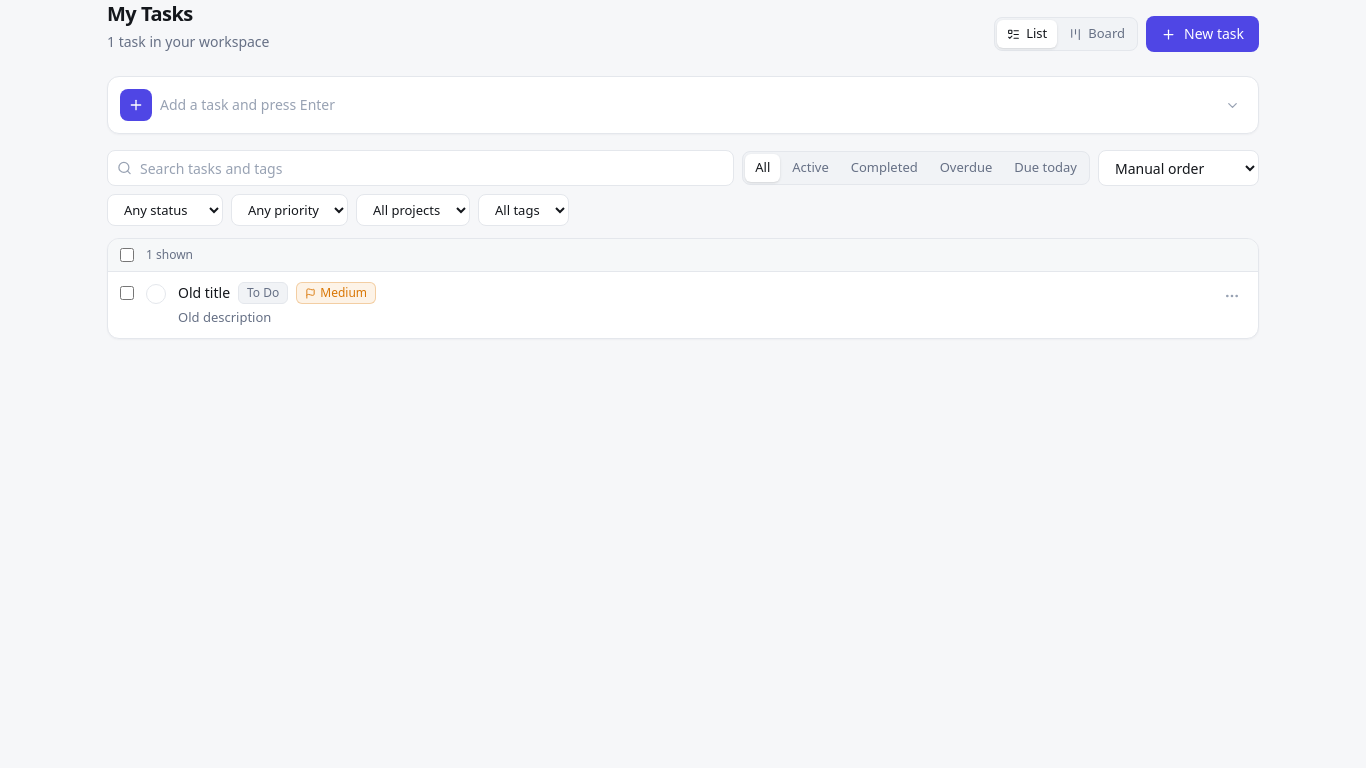
it: completing tasks (G2) › edits a task through the editor modal
Click the button "Old title" at (204, 293), box x1=178 y1=283 x2=230 y2=303
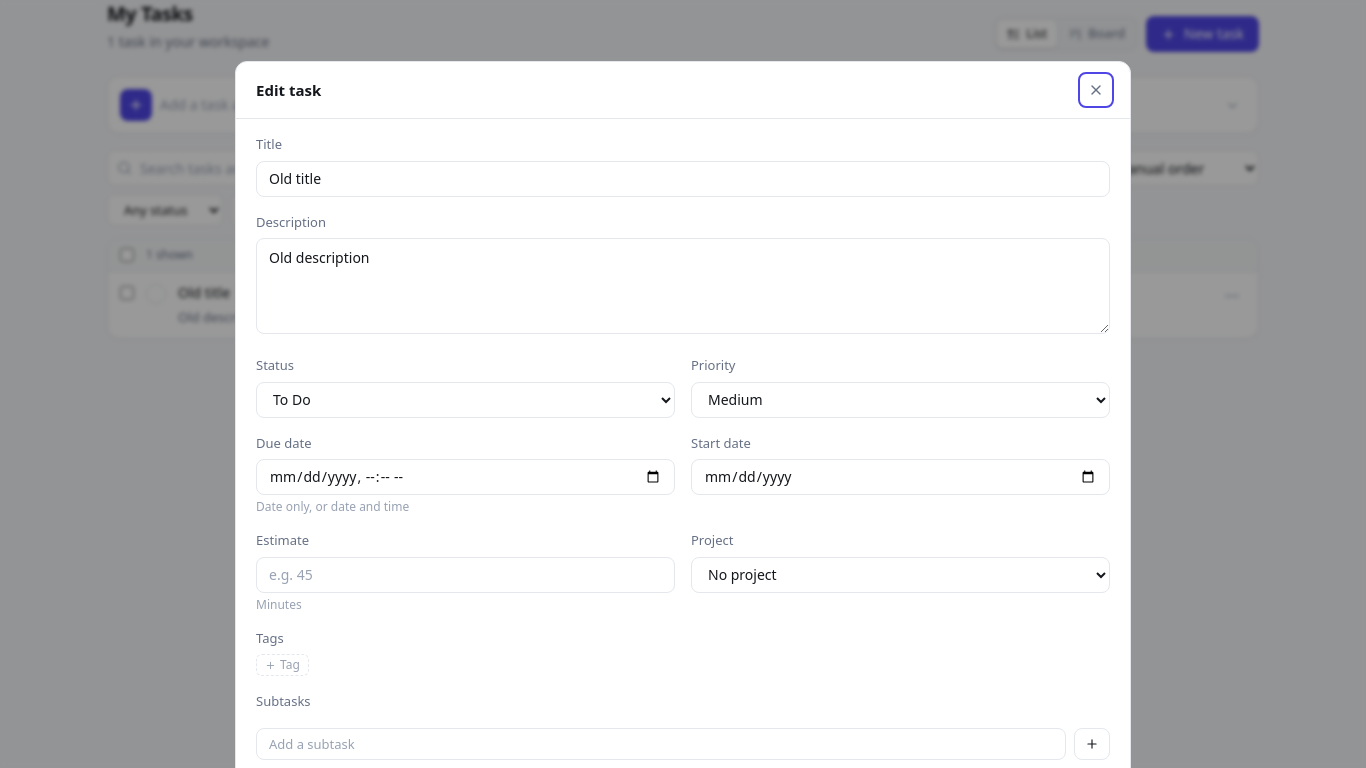
Replace the text in the field labelled "Title" with "New title" at (683, 179), box x1=256 y1=161 x2=1110 y2=197
(page scrolled)
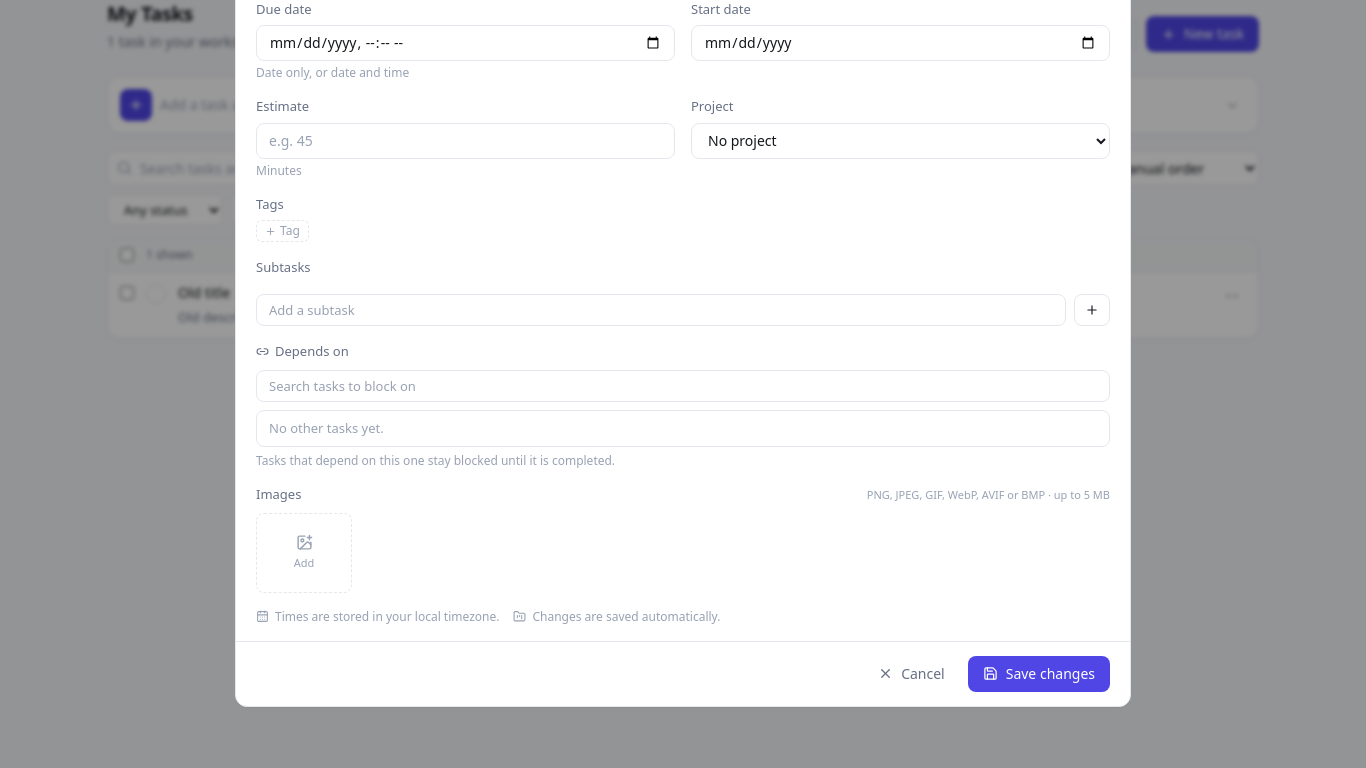
Click the button "Save changes" at (1039, 674), box x1=968 y1=656 x2=1110 y2=692
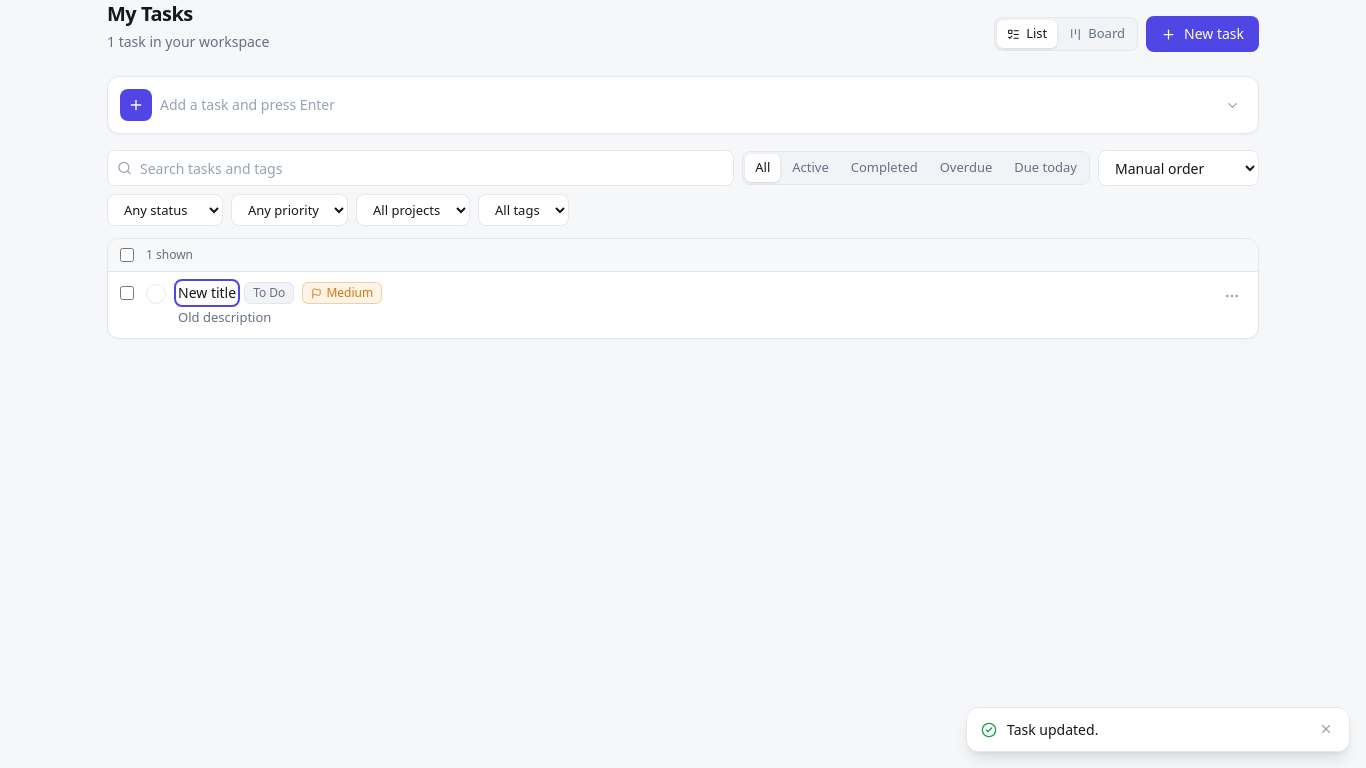
Check: the button named "Old title" reads "New title", box x1=178 y1=283 x2=236 y2=303
